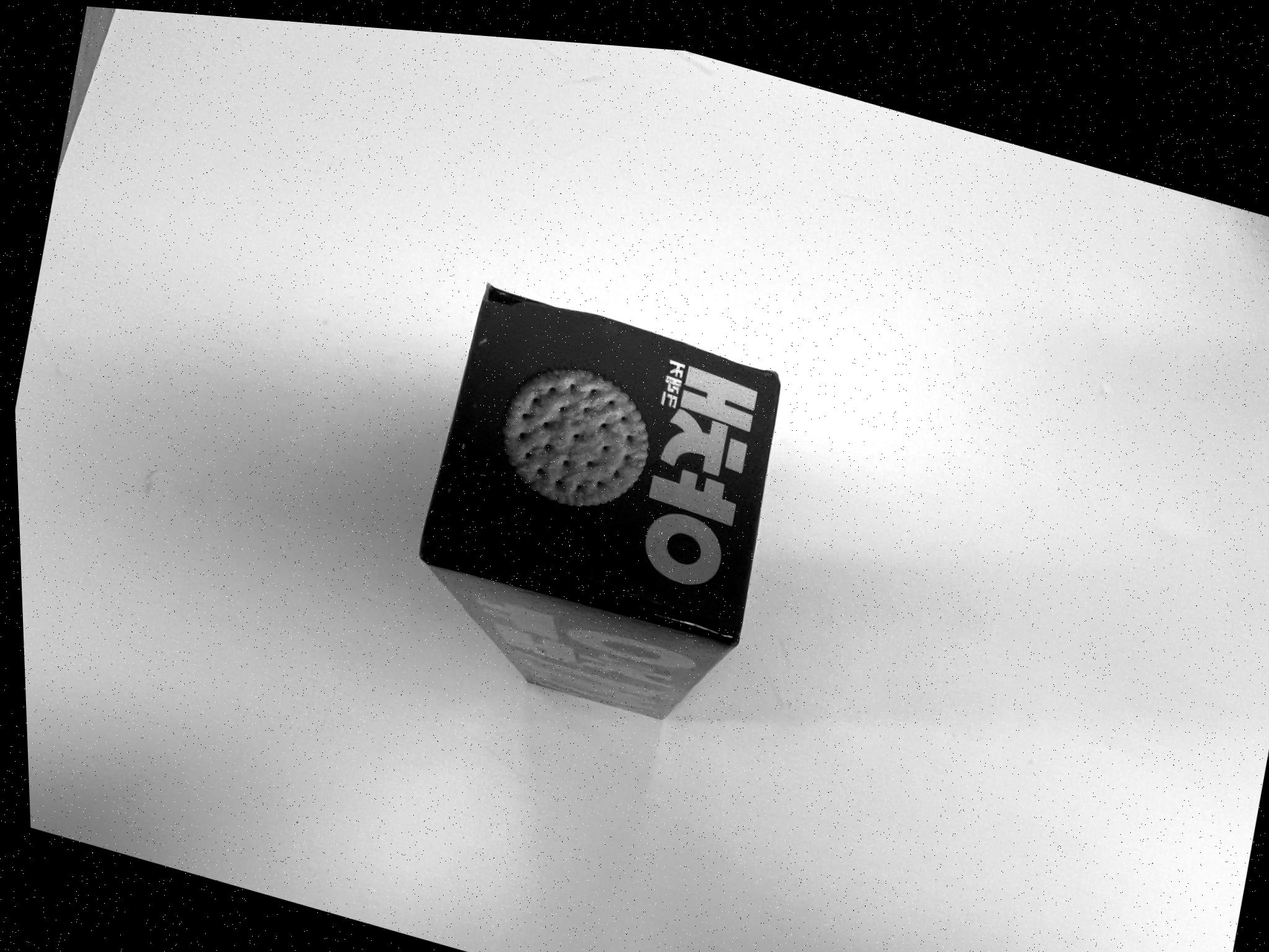cracker_vege: (421, 287, 780, 719)
